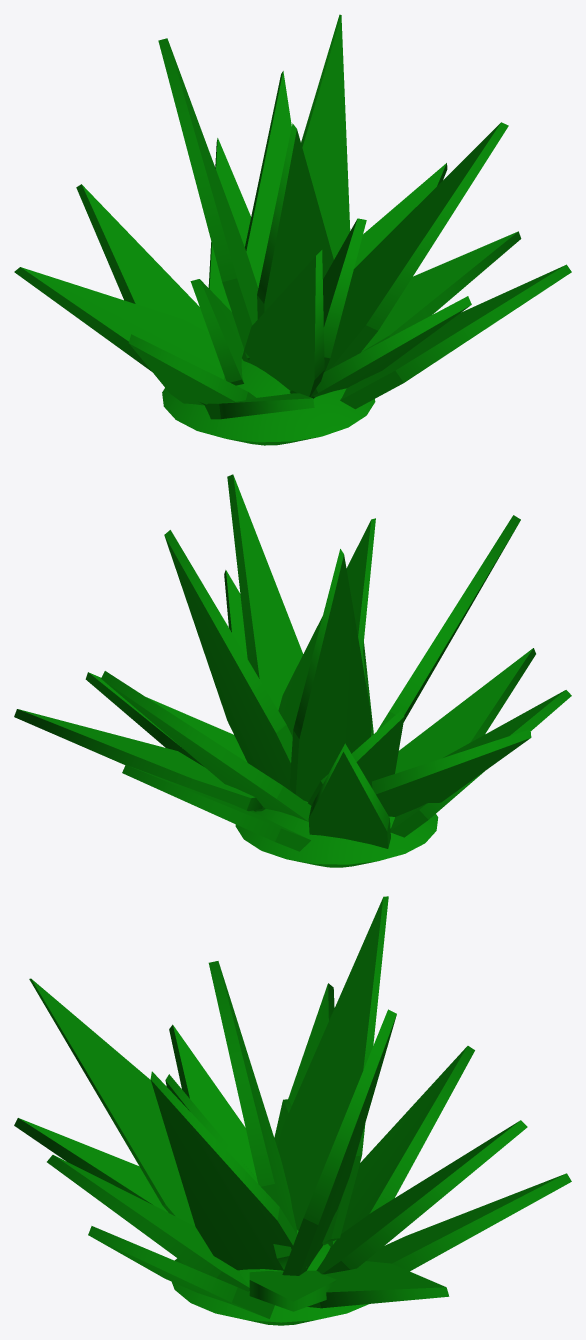
File: grass.fbx
3 views of the same model, one above another, from view 1: azimuth 30°, elevation 25°; view 2: azimuth 150°, elevation 25°; view 3: azimuth 270°, elevation 25° (orthographic). The views are drawn at different scales.
Visible parts, largest first — view 1: grass; view 2: grass; view 3: grass.
Part boxes in pixels (left/top/right/bottom): grass: left=14, top=14, right=571, bottom=445; grass: left=14, top=474, right=571, bottom=867; grass: left=14, top=896, right=571, bottom=1325.
Size of the model in its own units: 9.09 by 6.52 by 8.6.
